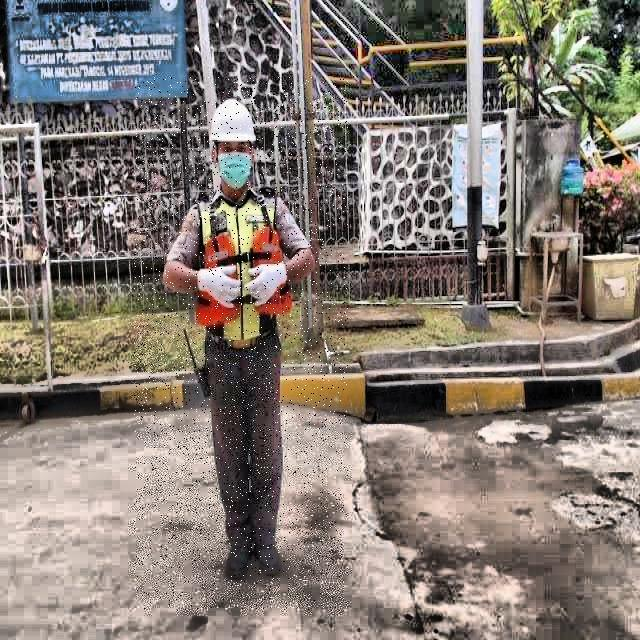safety_helmet: (211, 97, 256, 146)
safety_jacket: (195, 195, 284, 345)
